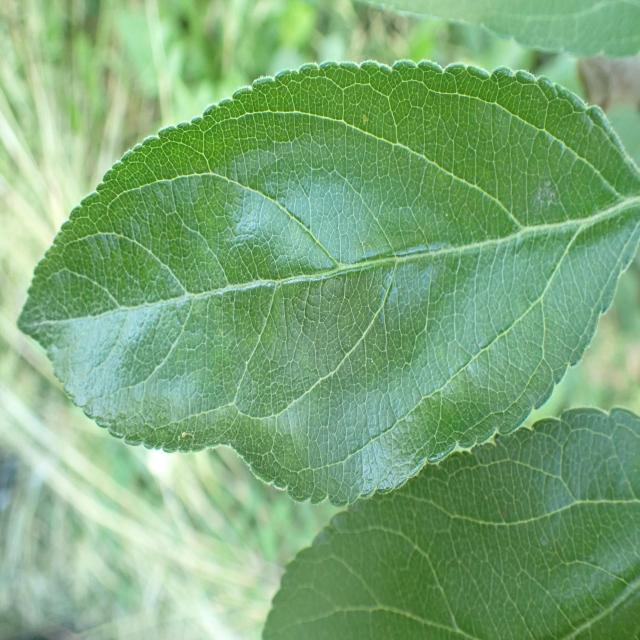healthy: (18, 59, 638, 507), (264, 405, 640, 640)
